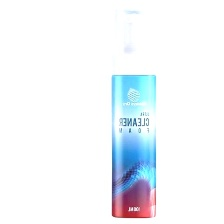cleaning_solution: (109, 6, 159, 219)
